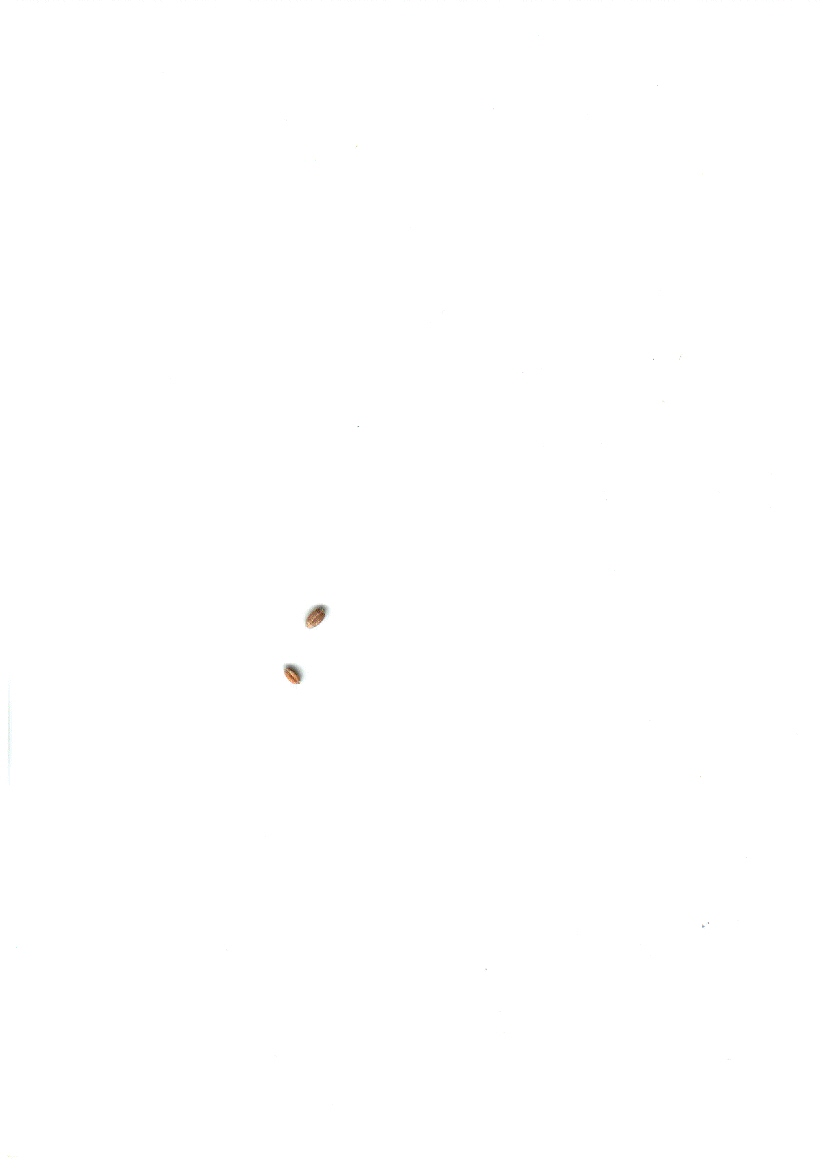grains: (273, 654, 311, 695), (299, 599, 334, 637)
